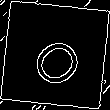O_NE: (21, 22, 89, 88)
